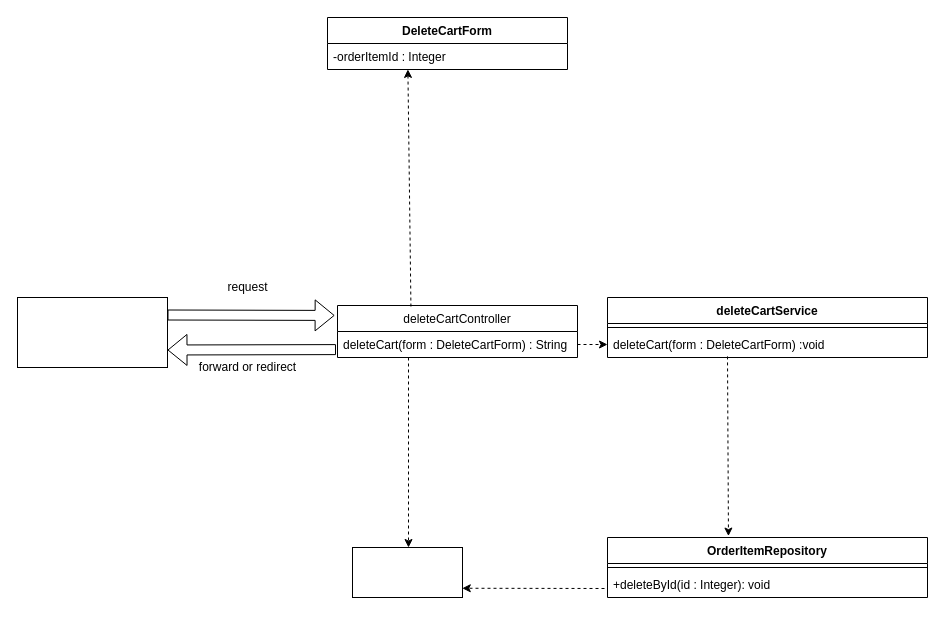
This 945x618 diagram has some shape labels left out. Here are the shapes that lost their labels. From the top down, the centre of each, then its label:
the point at 92,332: cart_list.html
the point at 407,572: «Domain» OrderItem
